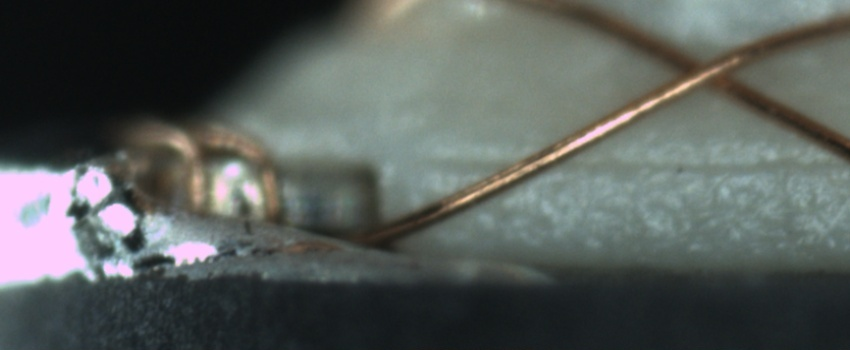CL: (650, 32, 757, 105)
DL: (406, 131, 850, 196)
TE: (118, 113, 277, 237)
